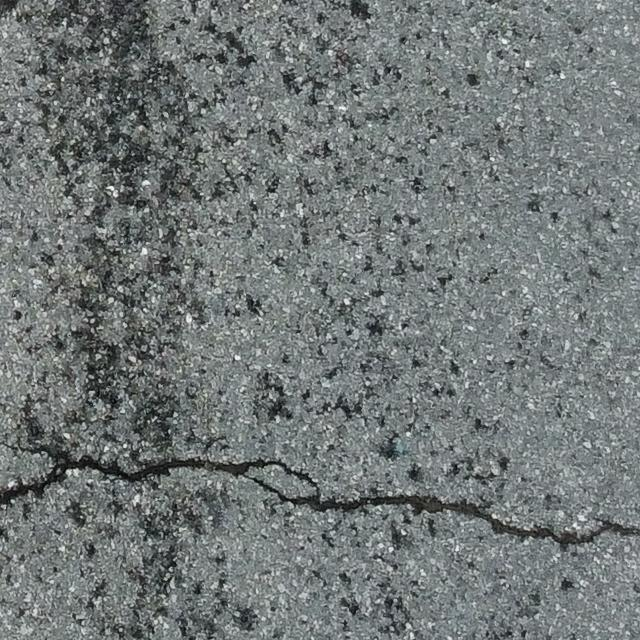TransverseCrack: (1, 441, 640, 551)
